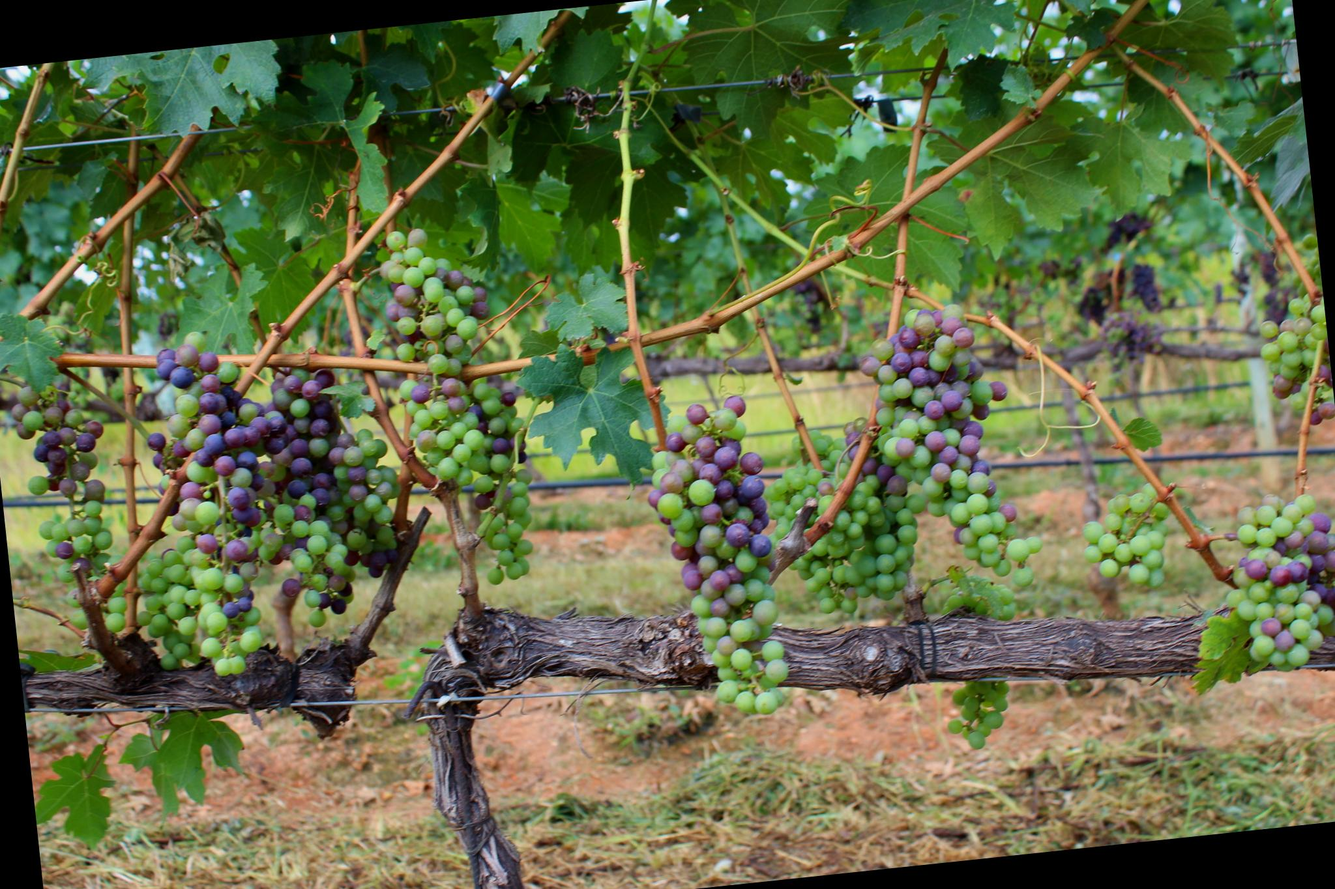Grape Unripe: (928, 570, 1022, 754), (1247, 285, 1335, 433), (1082, 482, 1182, 594)
